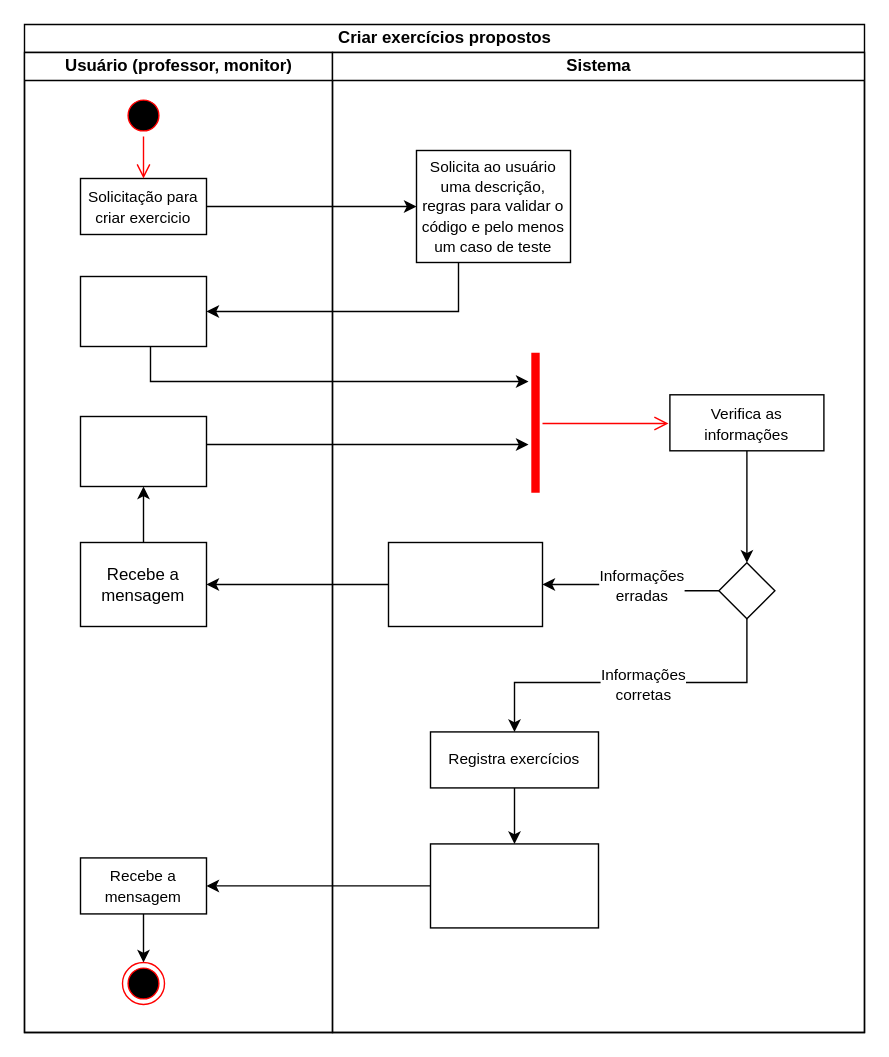
This 889x1057 diagram has some shape labels left out. The shapes that lost their labels are listed below. From the top down, each one's centre as x and y in pixels, then its label:
point 142,310: Submete as informações
point 142,450: Submete novas informações
point 464,583: Informa ao usuário quais dados não foram preenchidos corretamente
point 513,885: Informa ao usuário que a criação foi um sucesso
